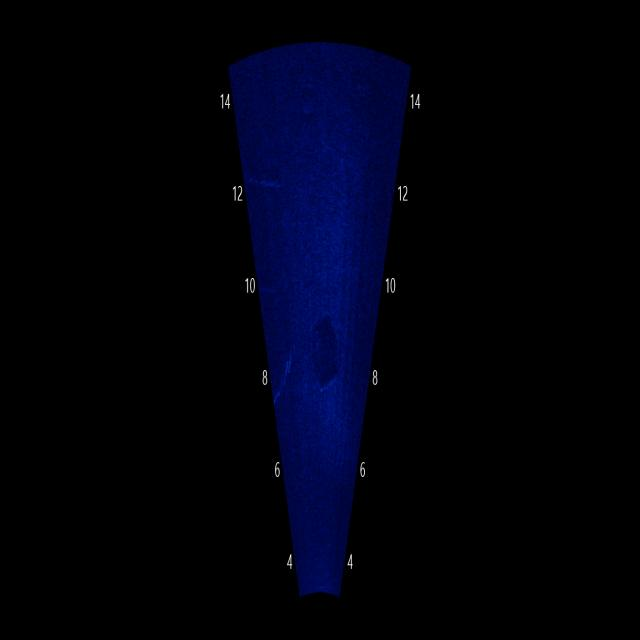square: (305, 300, 345, 409)
